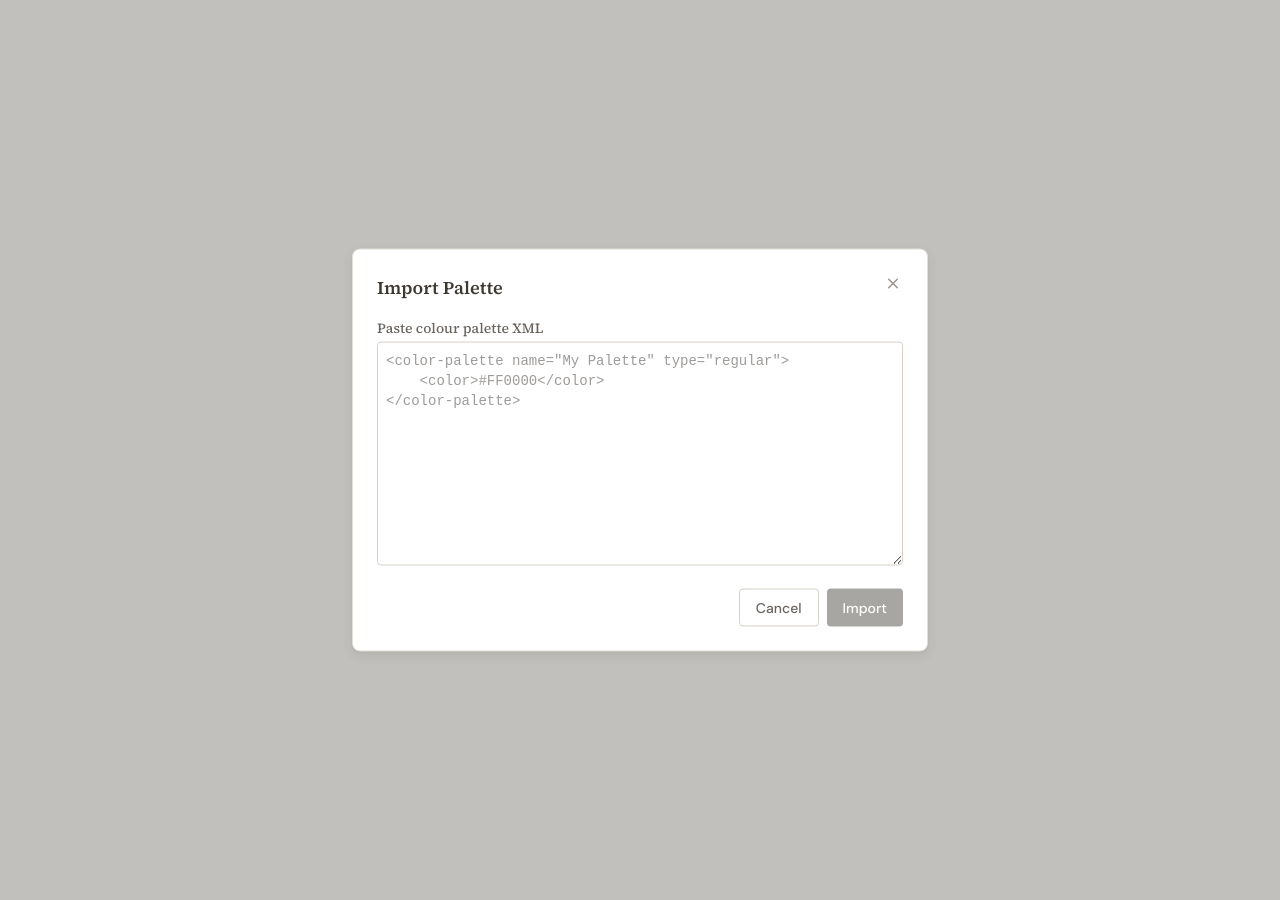
Scenario: ImportModal › shows a validation error for wrong root element
In the text box: x=640, y=454 [377,342,903,566], type "<palette type=\"regular\"><color>#FF0000</color></palette>"
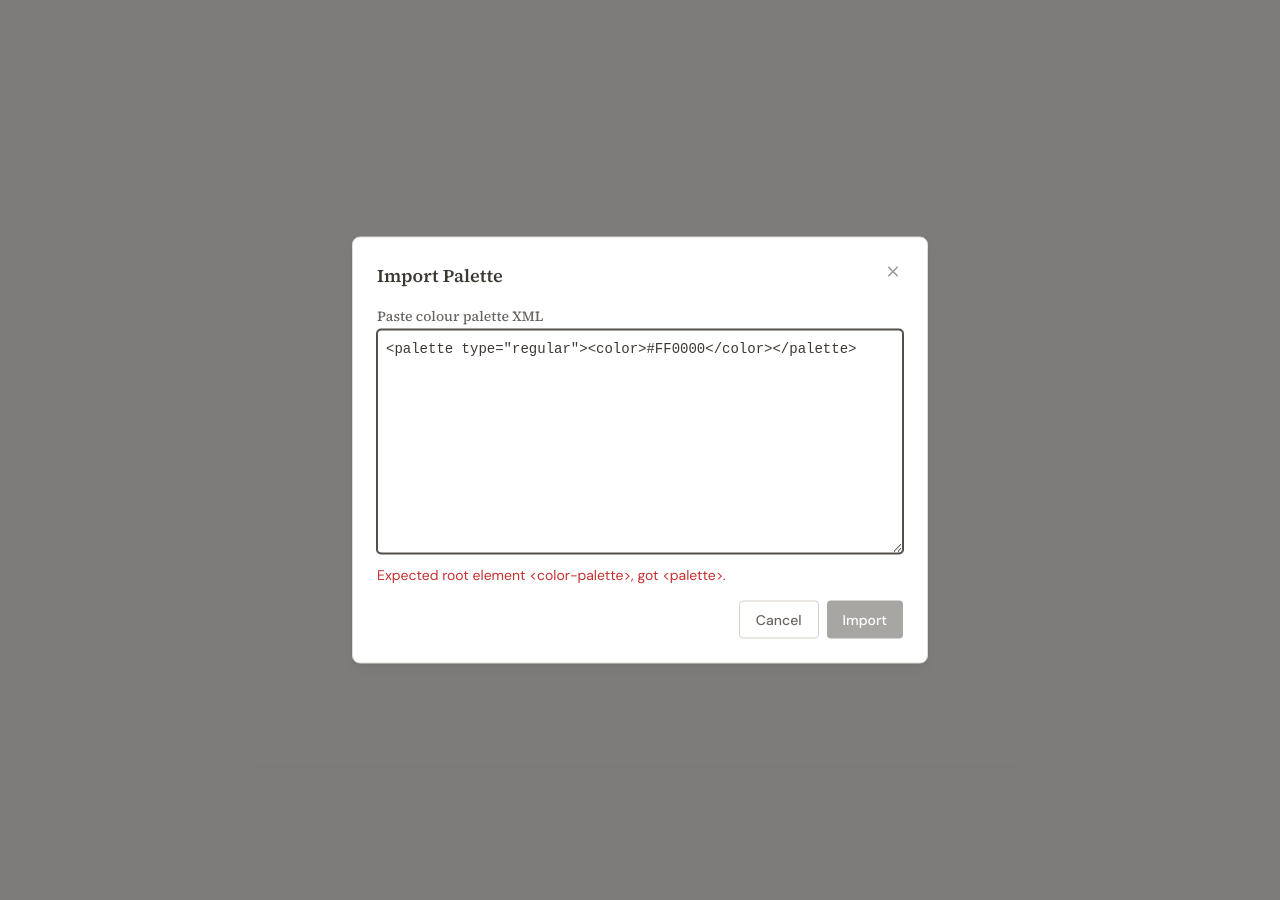
Expected: the button "Import" is disabled, [827,600,903,638]
Expected: the message shows "color-palette", [377,566,725,584]
